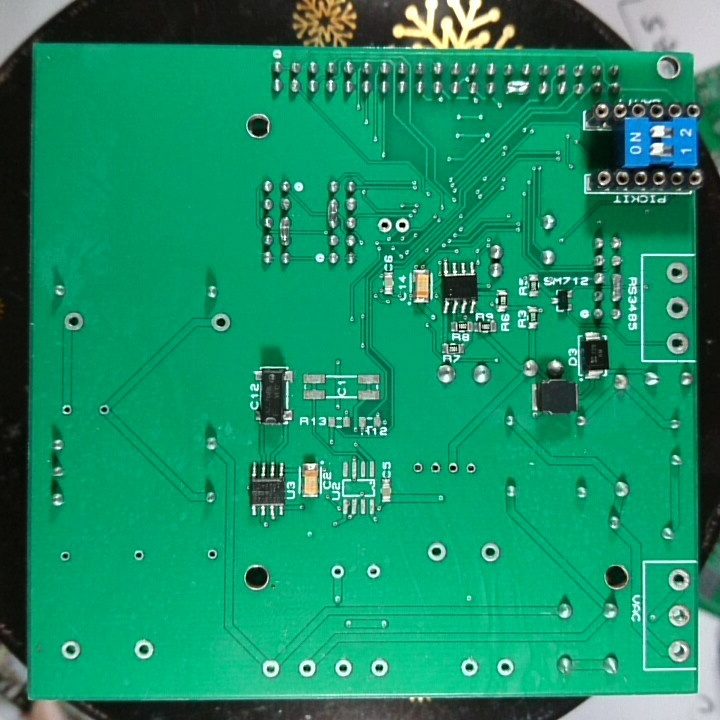F: (664, 329, 692, 358), (665, 292, 690, 322), (665, 259, 691, 287), (665, 638, 693, 663), (132, 636, 157, 662), (425, 540, 450, 566), (58, 638, 83, 663), (478, 540, 503, 565), (667, 603, 691, 629), (62, 310, 86, 336), (208, 311, 233, 335), (667, 568, 691, 591), (368, 657, 391, 680), (260, 658, 282, 680), (333, 658, 356, 679), (296, 658, 319, 679), (392, 214, 413, 237), (495, 656, 517, 677), (459, 656, 481, 677), (375, 214, 394, 237), (363, 562, 384, 582), (328, 563, 348, 583), (97, 400, 112, 421), (57, 548, 74, 566), (445, 460, 462, 478), (131, 546, 147, 565), (204, 545, 220, 564), (463, 460, 479, 478), (59, 401, 74, 420), (428, 459, 443, 476), (411, 458, 425, 476)
P: (608, 270, 626, 305), (277, 213, 293, 248), (503, 77, 532, 96), (325, 196, 341, 229)
